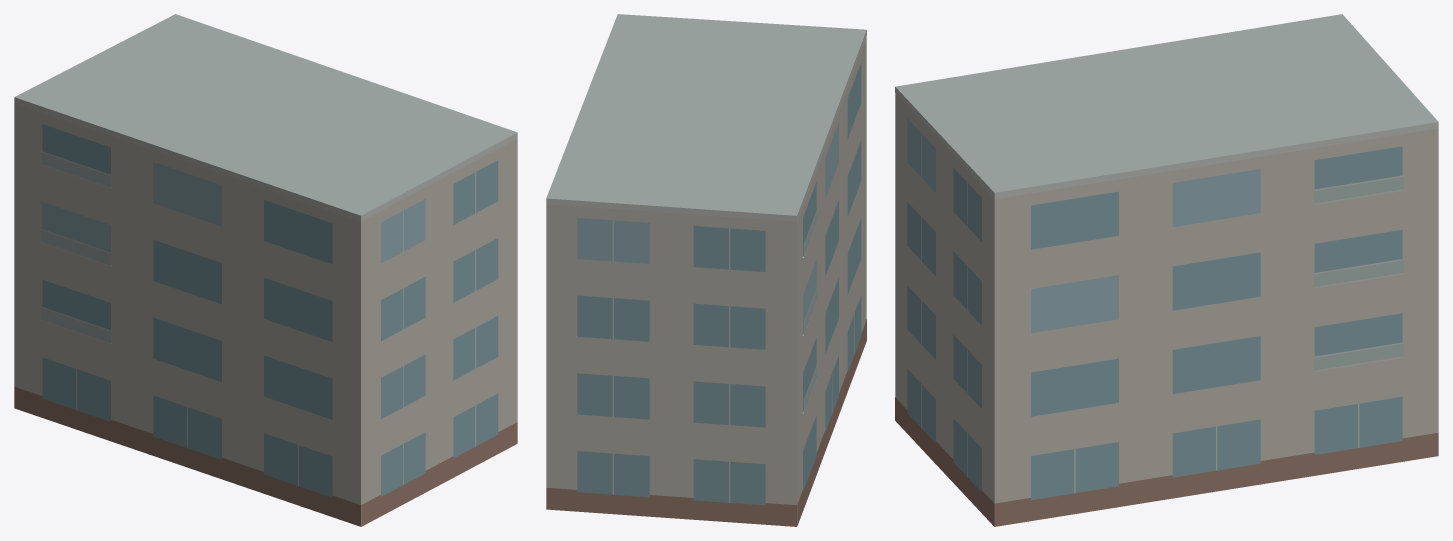
Rendered from survey-upis-32959528.glb.
3 views of the same model, side by side, from view 1: azimuth 30°, elevation 25°; view 2: azimuth 150°, elevation 25°; view 3: azimuth 270°, elevation 25° (orthographic). The views are drawn at different scales.
Parts seen in each view (by area): view 1: survey-upis-32959528.tmp; view 2: survey-upis-32959528.tmp; view 3: survey-upis-32959528.tmp.
Part boxes in pixels (x1,y1,x2,y2): survey-upis-32959528.tmp: (14,14,517,526); survey-upis-32959528.tmp: (546,14,866,526); survey-upis-32959528.tmp: (895,14,1438,526).
Bounding box in the file's own units: 14.82 × 12.9 × 19.03.
